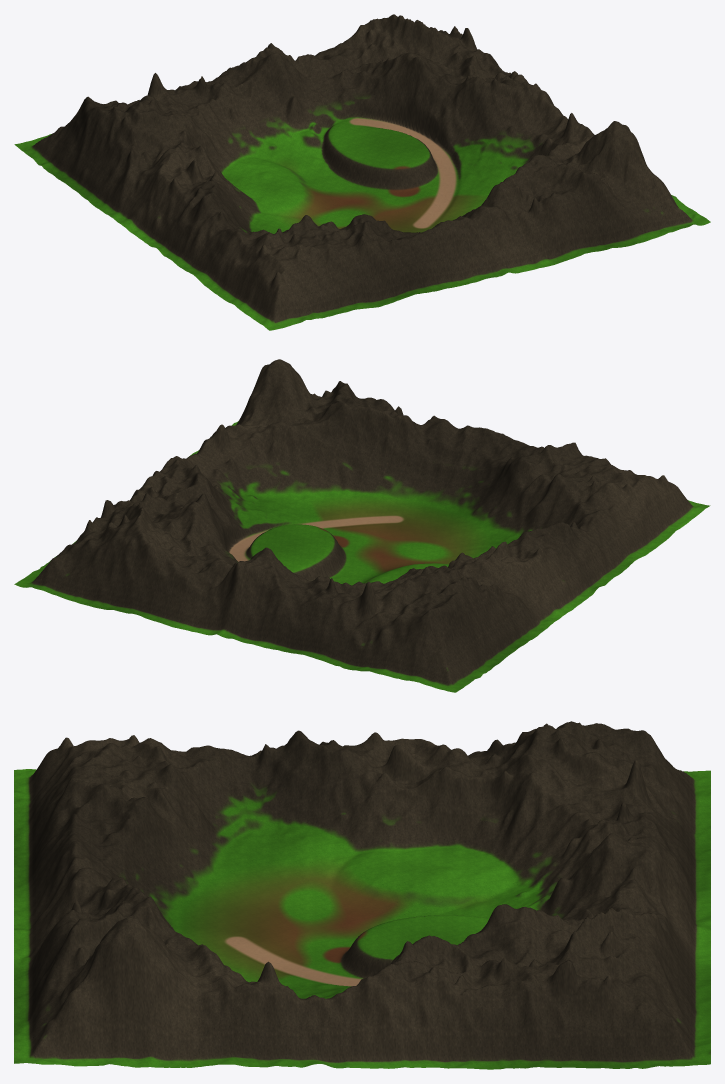
The model's file is open_world_map_terrain3d.glb.
The picture shows the model from 3 angles, top to bottom: view 1: azimuth 30°, elevation 25°; view 2: azimuth 150°, elevation 25°; view 3: azimuth 270°, elevation 25°; orthographic projection. The views are drawn at different scales.
Parts seen in each view (by area): view 1: Terrain3D_OpenWorld_Map; view 2: Terrain3D_OpenWorld_Map; view 3: Terrain3D_OpenWorld_Map.
Part boxes in pixels (x1,y1,x2,y2): Terrain3D_OpenWorld_Map: (14,14,710,330); Terrain3D_OpenWorld_Map: (14,359,710,692); Terrain3D_OpenWorld_Map: (14,721,710,1069).
Size of the model in its own units: 512 by 103 by 512.
Materials: 1 (1 with a texture image).
